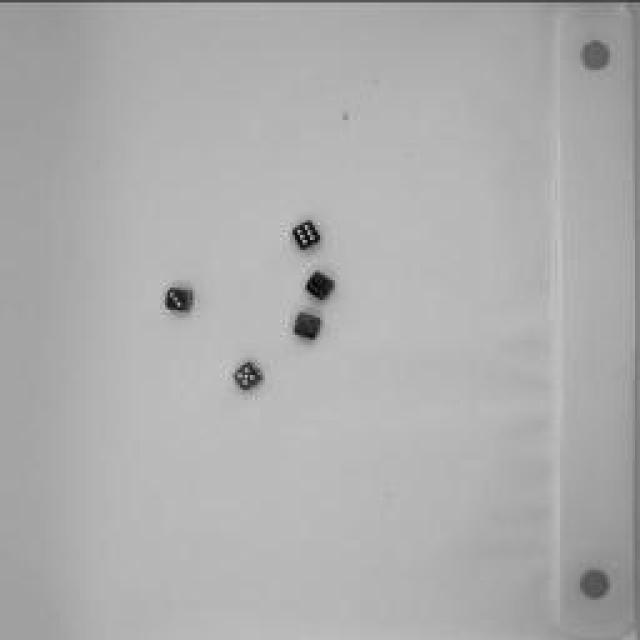dice_2: (292, 308, 328, 344)
dice_3: (164, 285, 196, 315)
dice_5: (230, 359, 268, 399)
dice_6: (305, 270, 337, 300), (292, 221, 322, 249)
